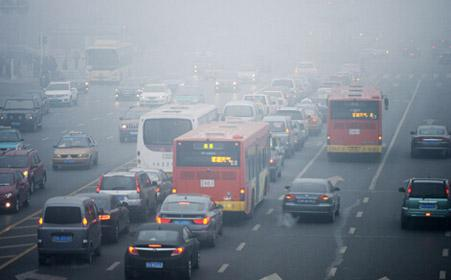bus: (169, 120, 271, 220), (135, 102, 219, 179), (326, 84, 389, 162), (84, 40, 141, 85)
car: (35, 195, 103, 263), (123, 222, 202, 280), (155, 191, 223, 249), (66, 191, 129, 243), (97, 169, 158, 222), (398, 175, 451, 231), (282, 176, 341, 225), (124, 163, 174, 207), (1, 146, 47, 191), (51, 131, 99, 170), (1, 95, 46, 133), (258, 114, 295, 158), (223, 99, 261, 139), (118, 106, 159, 142), (410, 123, 451, 159), (275, 106, 306, 152), (1, 168, 29, 215), (242, 91, 272, 132), (292, 102, 323, 137), (16, 88, 49, 118), (53, 69, 90, 95), (113, 76, 150, 100), (270, 77, 299, 107), (137, 82, 172, 106), (261, 88, 288, 116), (285, 72, 314, 97), (174, 85, 206, 106), (1, 127, 22, 157), (214, 71, 240, 93), (236, 62, 260, 84), (294, 61, 317, 83)
